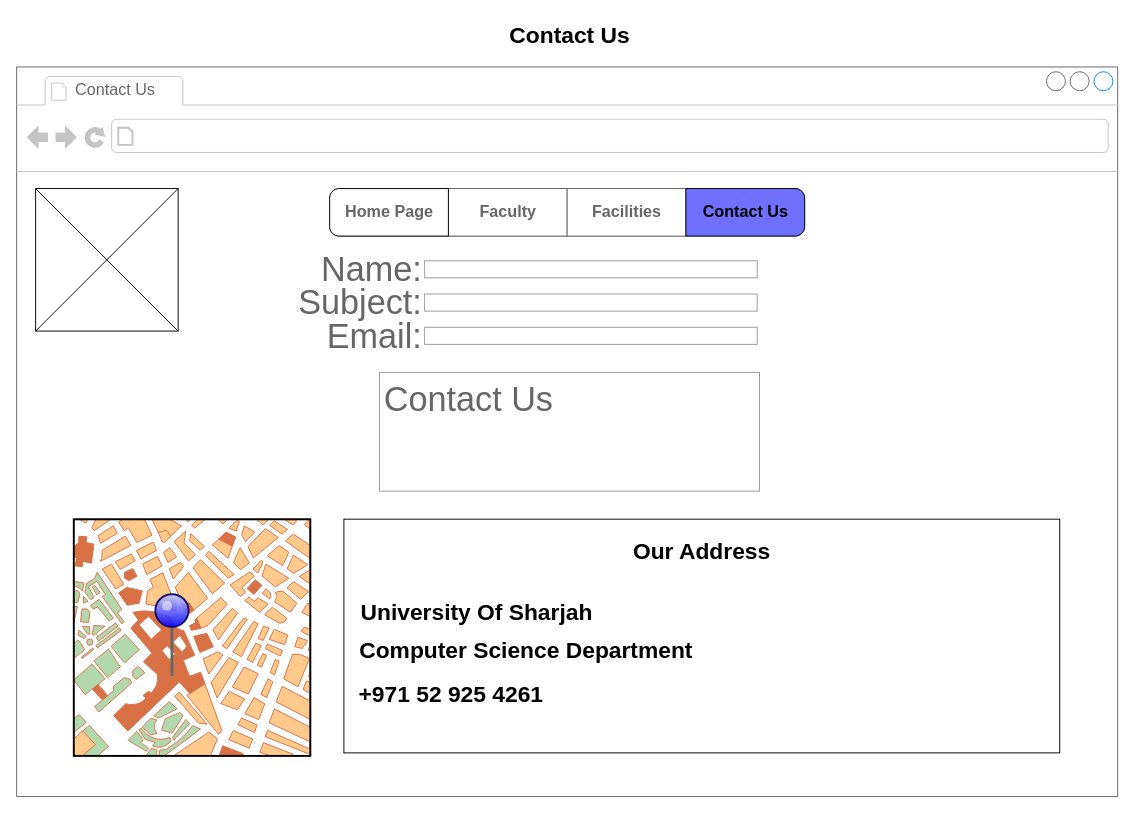
This 1134x813 diagram has some shape labels left out. Here are the shapes that lost their labels. From the top down, the centre of each, then its label:
At [258,136]: "https://www.departmentofcomputerscience.com".
At [106,259]: "Logo".
